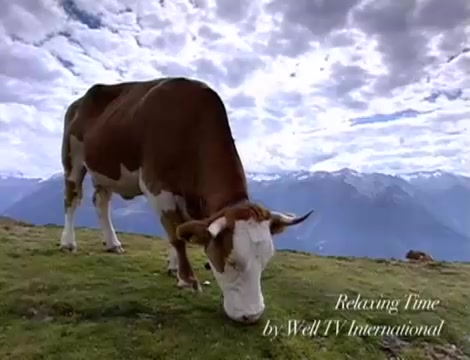cow: (60, 76, 317, 326)
